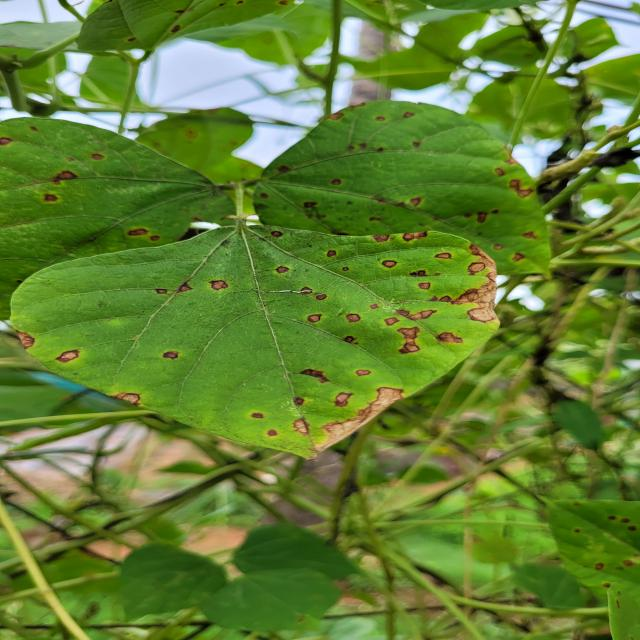Dolicos bean_cercospora leaf spot: (12, 224, 497, 463), (243, 93, 569, 294), (0, 110, 224, 323), (534, 496, 640, 606)
